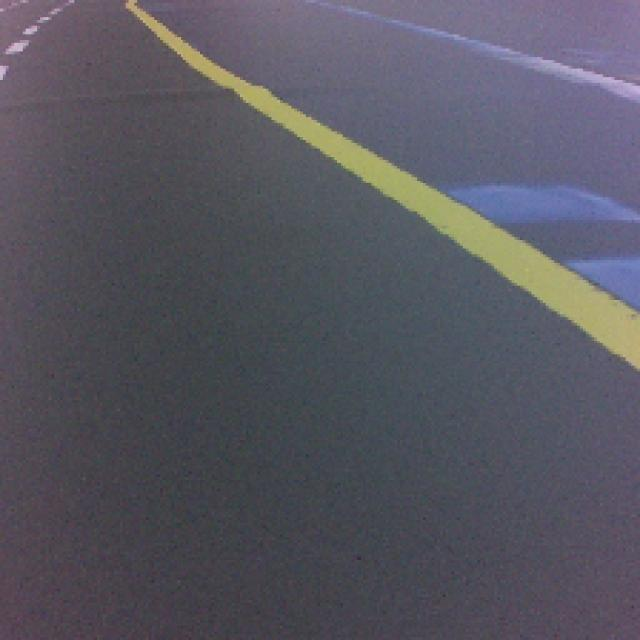Road: (0, 307, 640, 638)
